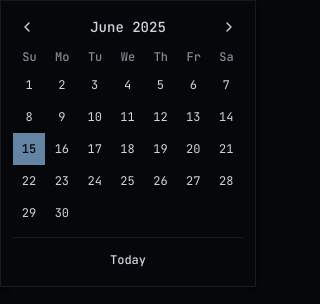
DateEditor › navigates to next month
Click the button named "Next month".
click(229, 27)  # box [215,13,243,41]
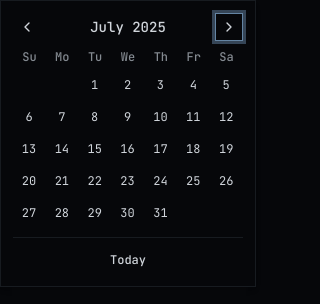
Now the text "July 2025" is shown, box [90,17,166,37]
